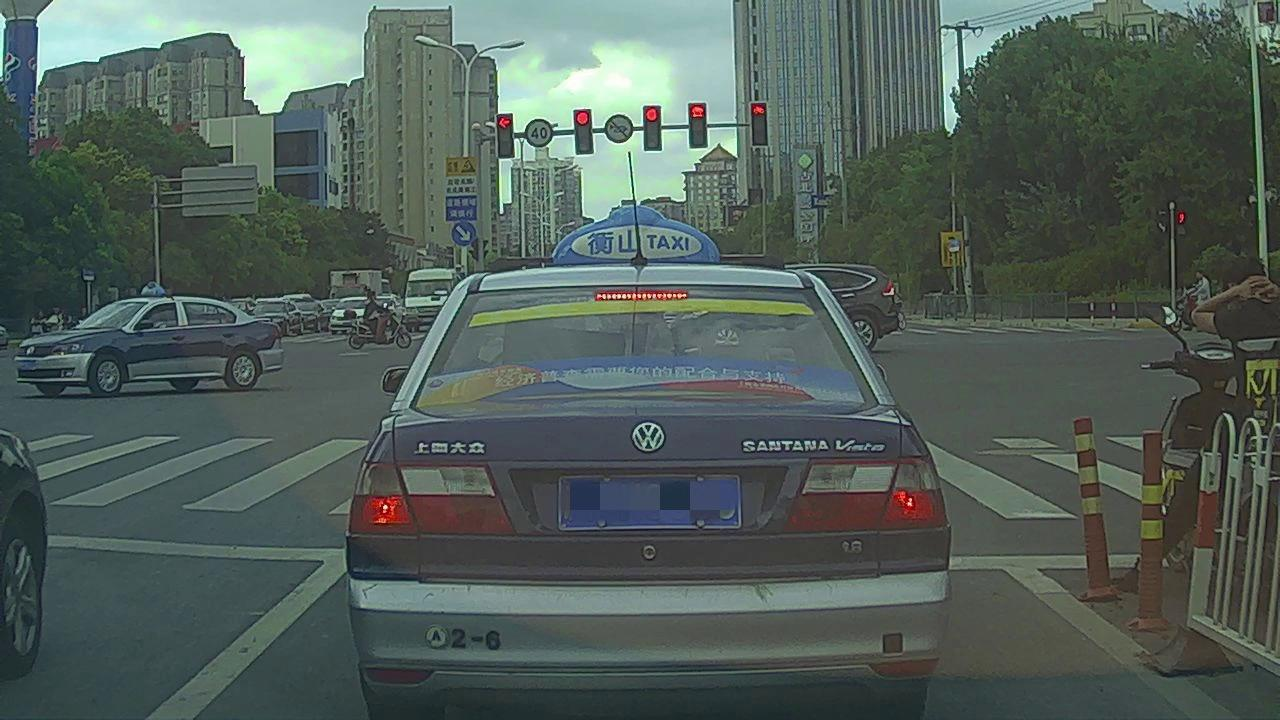traffic_light: (687, 103, 709, 149), (574, 110, 593, 154), (643, 106, 661, 151), (751, 102, 769, 146), (496, 115, 513, 157)
